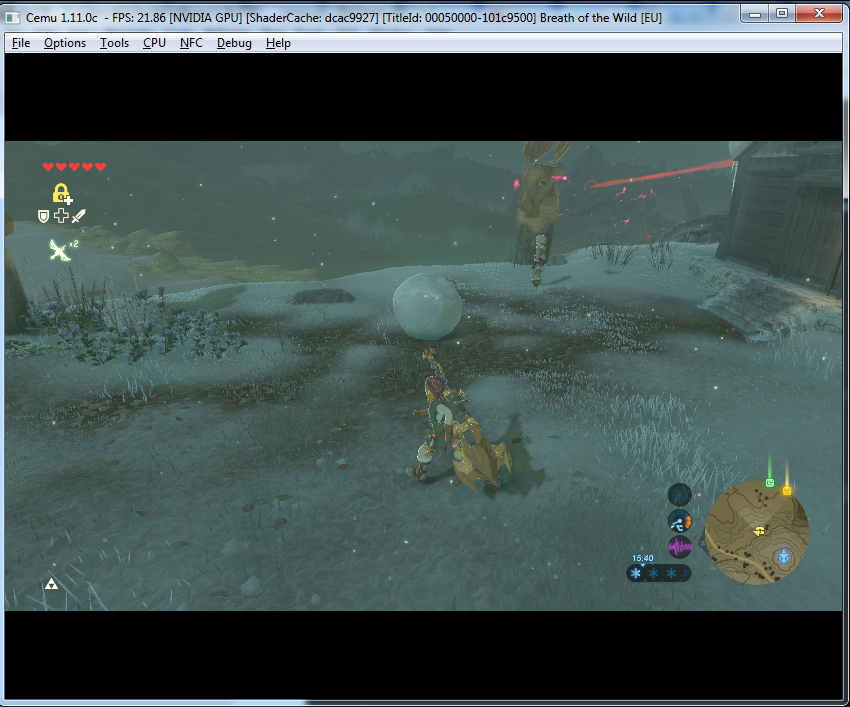dude: (523, 233, 561, 290)
link: (398, 348, 521, 493)
snowball: (391, 273, 475, 342)
totem: (519, 142, 560, 273)
